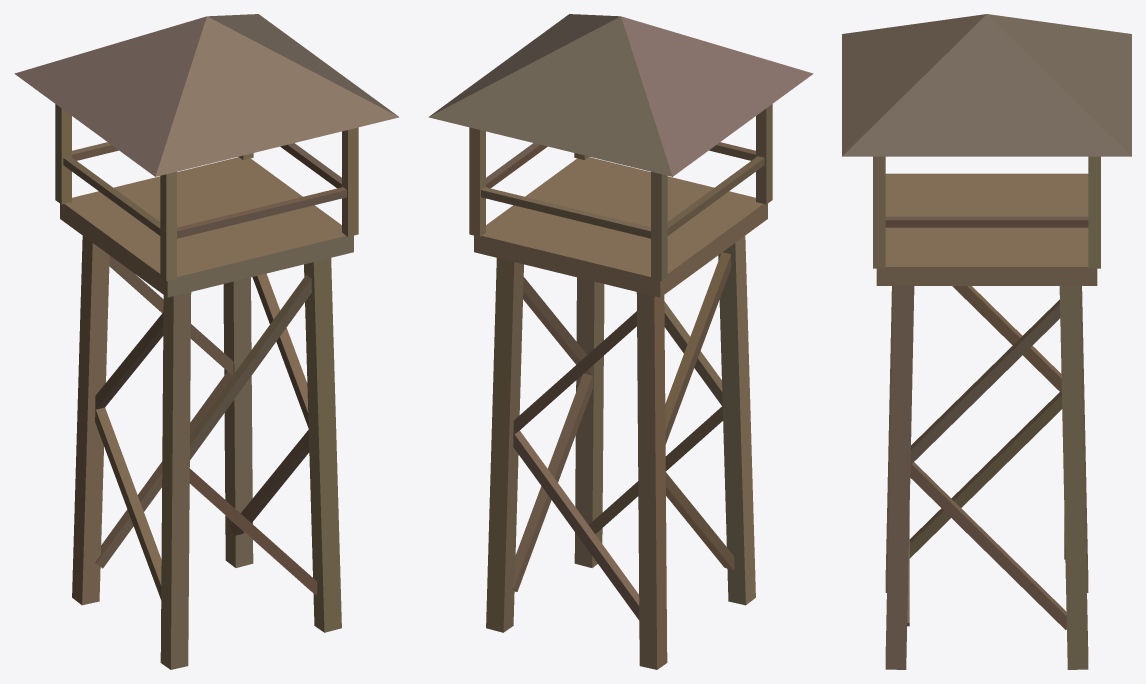
File: Piece_Watchtower.glb
3 views of the same model, side by side, from view 1: azimuth 30°, elevation 25°; view 2: azimuth 150°, elevation 25°; view 3: azimuth 270°, elevation 25° (orthographic). The views are drawn at different scales.
Parts seen in each view (by area): view 1: Piece_Watchtower; view 2: Piece_Watchtower; view 3: Piece_Watchtower.
Part boxes in pixels (left/top/right/bottom): Piece_Watchtower: left=14, top=14, right=399, bottom=669; Piece_Watchtower: left=428, top=14, right=813, bottom=669; Piece_Watchtower: left=842, top=14, right=1131, bottom=669.
Size of the model in its own units: 4.2 by 9.81 by 4.2.
